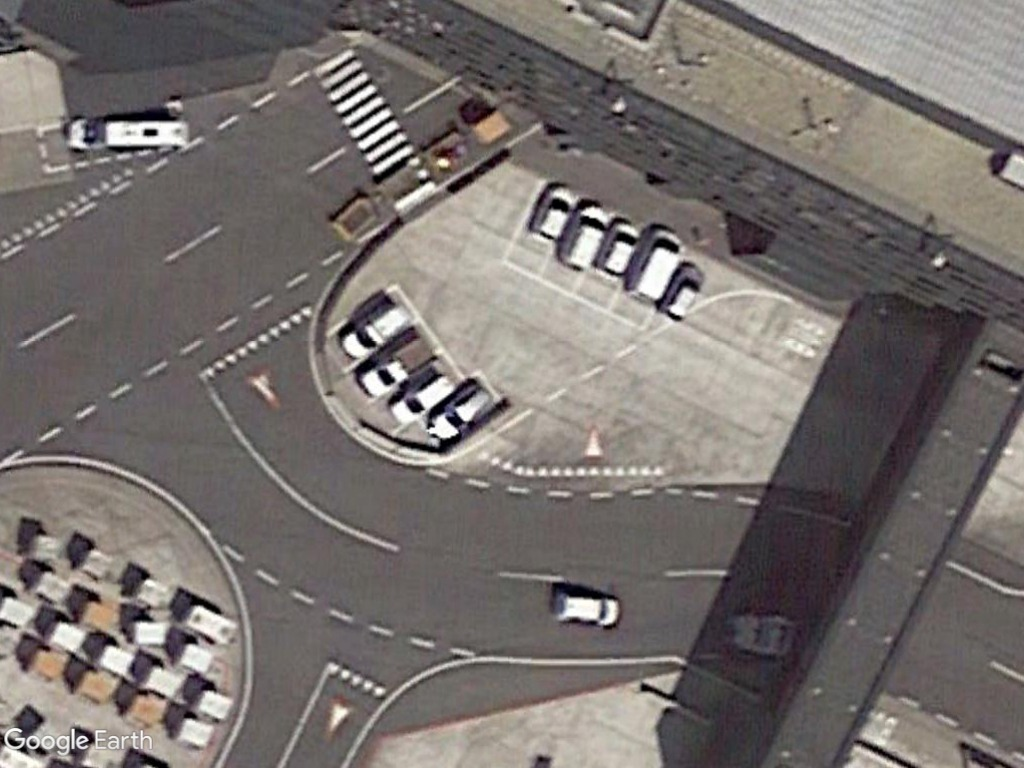car: (426, 379, 498, 444), (384, 367, 458, 425), (593, 216, 641, 282), (528, 182, 576, 245), (658, 264, 710, 322)
others: (357, 333, 434, 400)
van: (65, 116, 192, 157), (627, 222, 689, 304), (339, 297, 420, 359), (554, 201, 609, 269), (552, 587, 624, 632)
